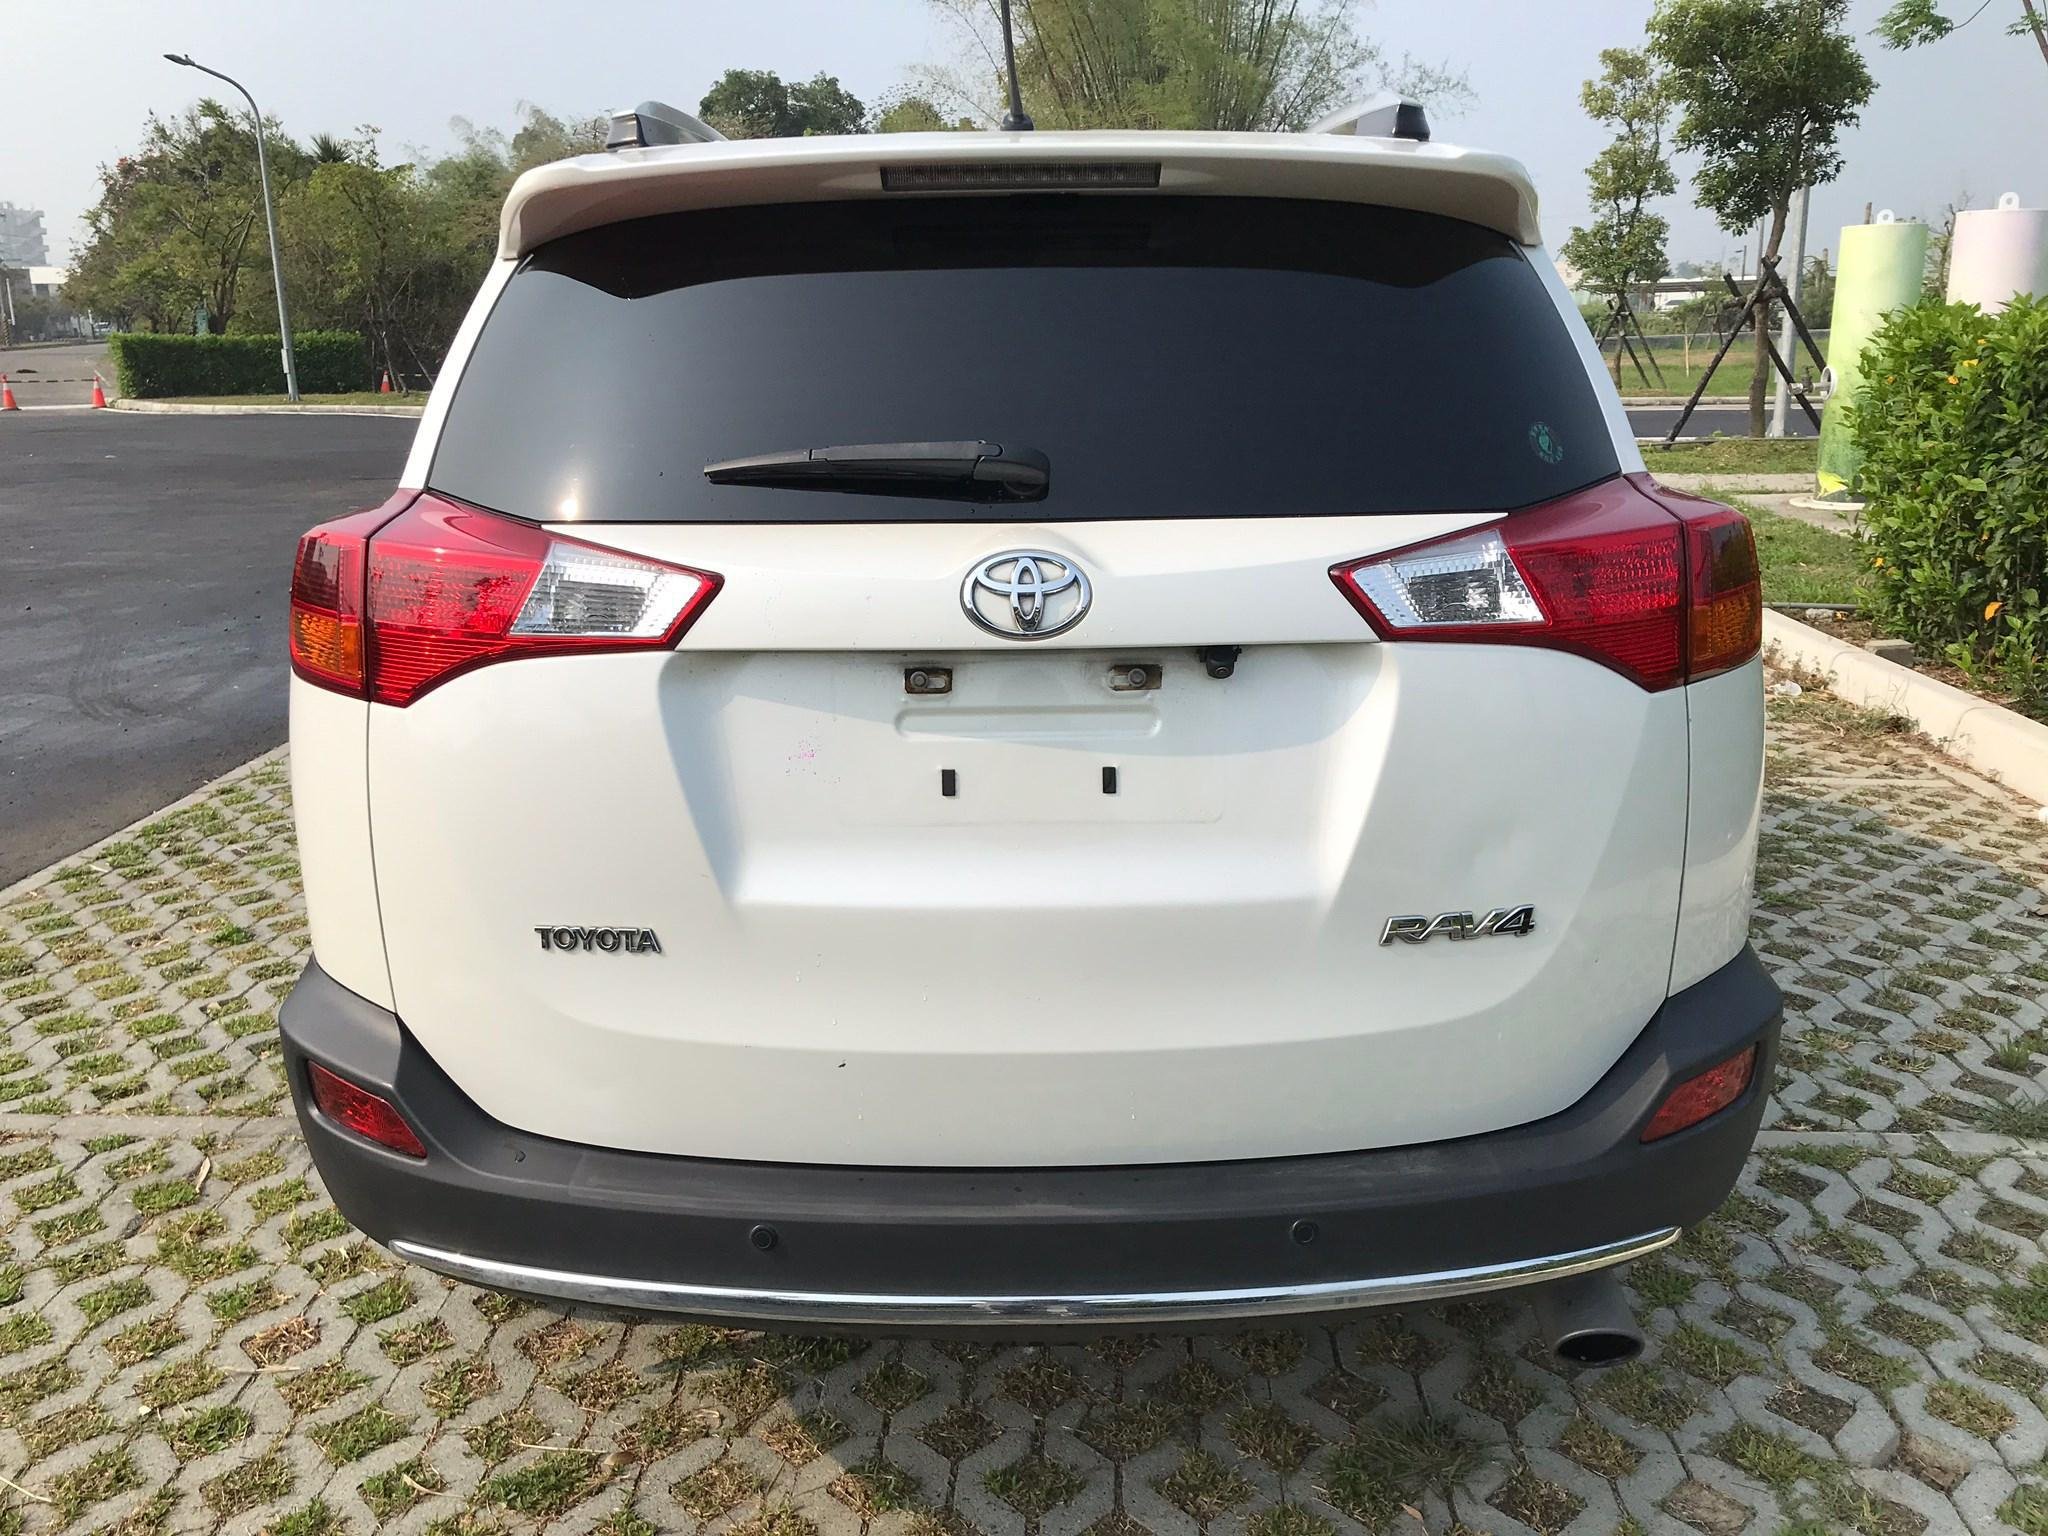toyota_rav4: (282, 126, 1771, 1320)
